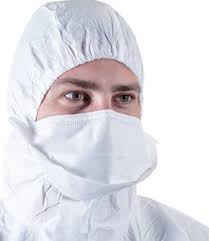mask: (38, 114, 147, 189)
